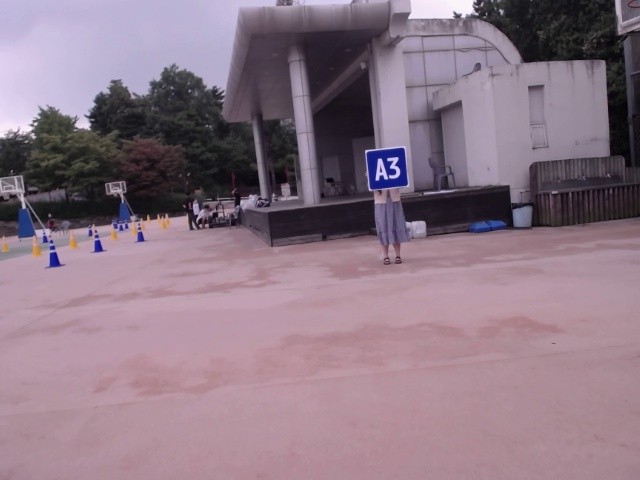delivery_a3: (366, 146, 409, 190)
